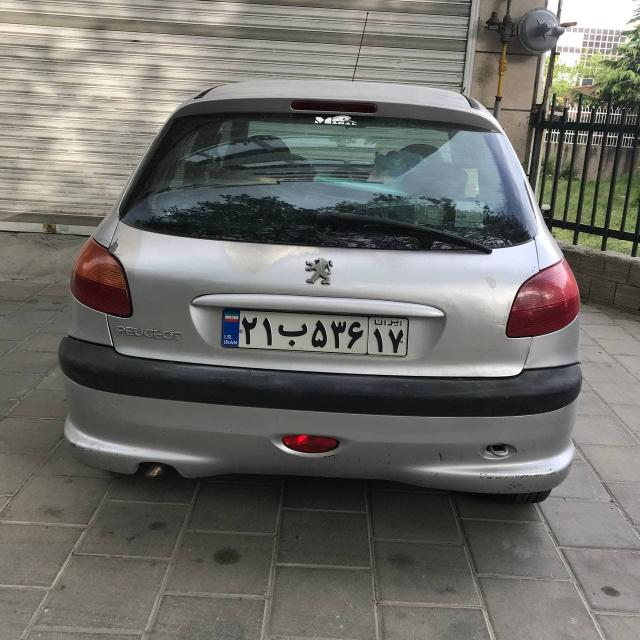Plates: (221, 309, 409, 357)
